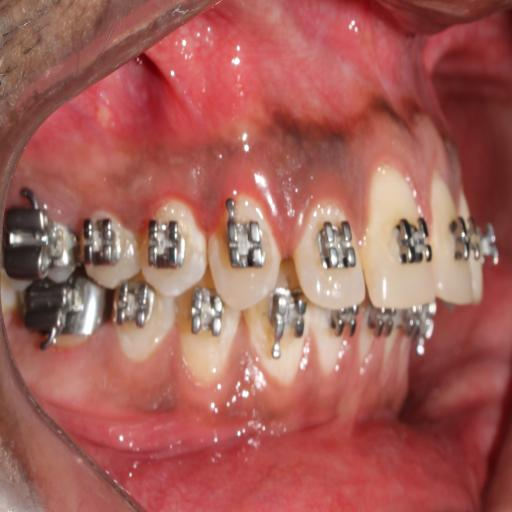correct_brace: (135, 198, 207, 302), (314, 218, 358, 274), (226, 217, 268, 275), (391, 212, 434, 268)
incorrect_brace: (296, 197, 362, 314), (146, 218, 186, 271)
